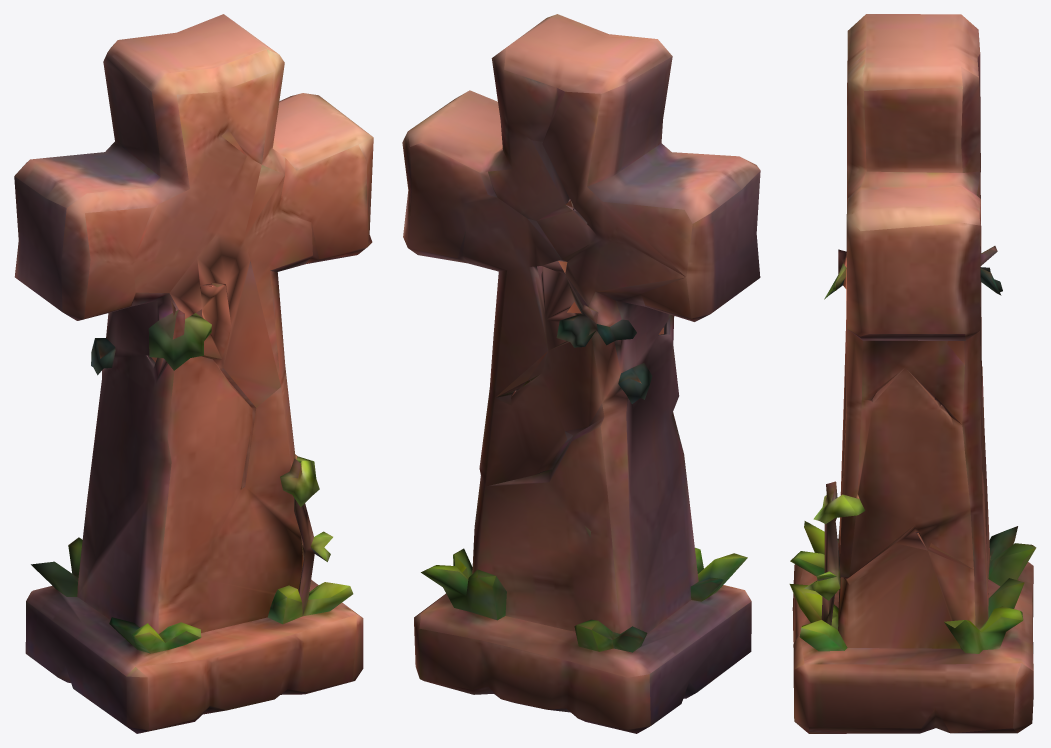
Rendered from lg-gravestone-b.glb.
The picture shows the model from 3 angles, left to right: view 1: azimuth 30°, elevation 25°; view 2: azimuth 150°, elevation 25°; view 3: azimuth 270°, elevation 25°; orthographic projection. The views are drawn at different scales.
Visible parts, largest first — view 1: geometry_0; view 2: geometry_0; view 3: geometry_0.
Part boxes in pixels (x1,y1,x2,y2): geometry_0: (14, 14, 373, 733); geometry_0: (402, 14, 760, 733); geometry_0: (789, 14, 1036, 733).
Bounding box in the file's own units: 0.5152 × 1 × 0.3496.
1 material, 1 textured.
